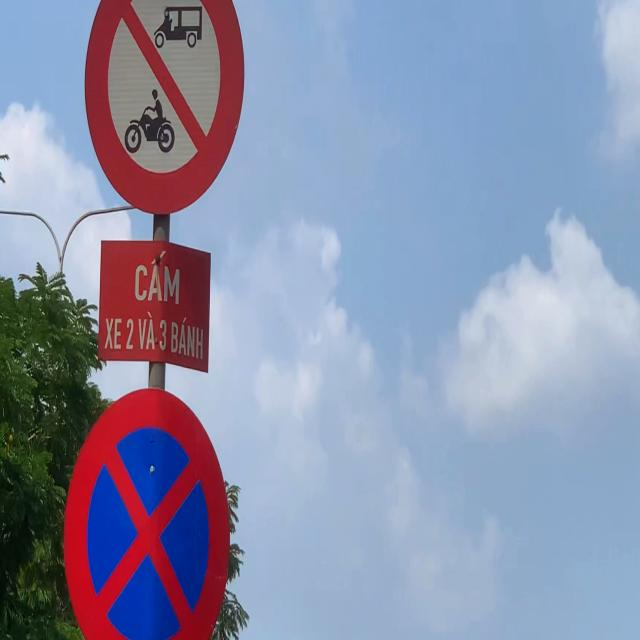Cam con lai: (84, 0, 246, 216)
Cam dung va do: (62, 385, 231, 640)
